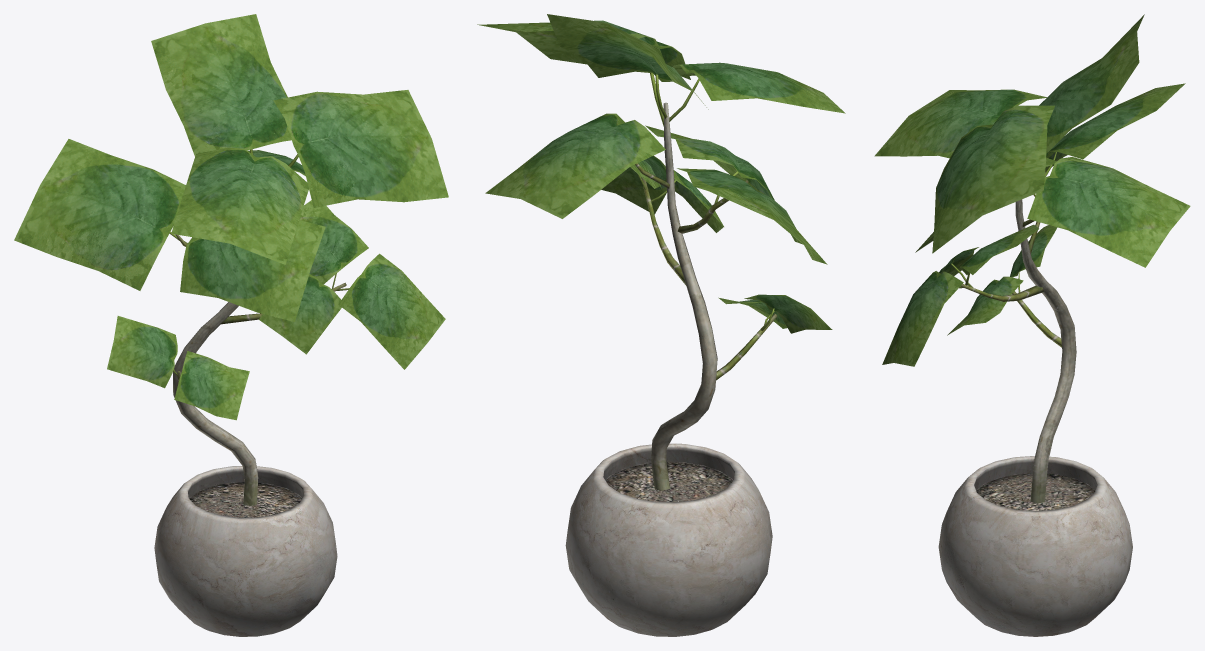
Rendered from Furniture_foliageplant_06_LOD0.fbx.
3 views of the same model, side by side, from view 1: azimuth 30°, elevation 25°; view 2: azimuth 150°, elevation 25°; view 3: azimuth 270°, elevation 25° (orthographic). The views are drawn at different scales.
Visible parts, largest first — view 1: F_foliageplant_06_3, F_foliageplant_06_1, F_foliageplant_06_2; view 2: F_foliageplant_06_1, F_foliageplant_06_3, F_foliageplant_06_2; view 3: F_foliageplant_06_3, F_foliageplant_06_1, F_foliageplant_06_2.
Boxes of the visible parts, x1,y1,x2,y2 form: F_foliageplant_06_3: (14, 14, 448, 420); F_foliageplant_06_1: (154, 466, 337, 636); F_foliageplant_06_2: (173, 234, 346, 505); F_foliageplant_06_1: (565, 443, 772, 636); F_foliageplant_06_3: (477, 14, 845, 333); F_foliageplant_06_2: (635, 102, 777, 490); F_foliageplant_06_3: (874, 14, 1190, 366); F_foliageplant_06_1: (938, 456, 1132, 636); F_foliageplant_06_2: (960, 199, 1076, 503).
Size of the model in its own units: 0.5248 by 0.7884 by 0.3867.
Materials: 2 (2 with a texture image).
